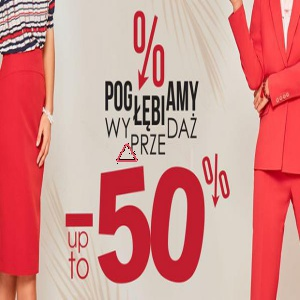triangle: (114, 141, 143, 166)
